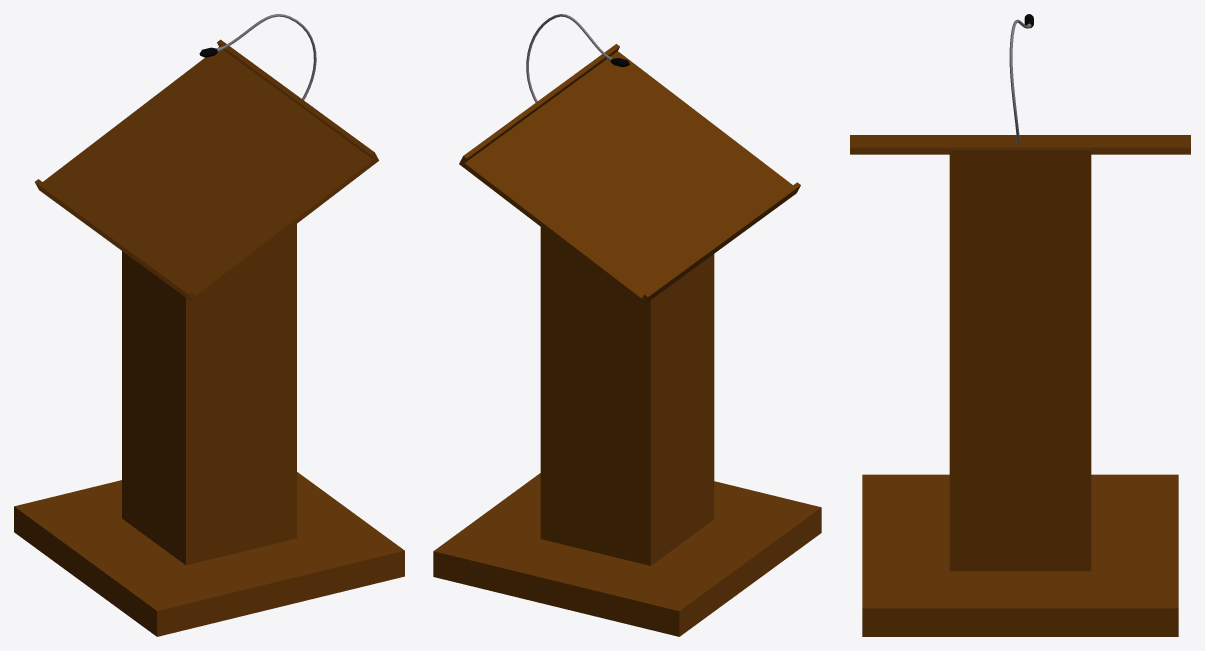
Rendered from podium.fbx.
The picture shows the model from 3 angles, left to right: view 1: azimuth 30°, elevation 25°; view 2: azimuth 150°, elevation 25°; view 3: azimuth 270°, elevation 25°; orthographic projection. The views are drawn at different scales.
Visible parts, largest first — view 1: podium; view 2: podium; view 3: podium.
Part boxes in pixels (x1,y1,x2,y2): podium: (14, 14, 404, 636); podium: (433, 14, 821, 636); podium: (850, 14, 1190, 636).
Bounding box in the file's own units: 100 × 203 × 108.
